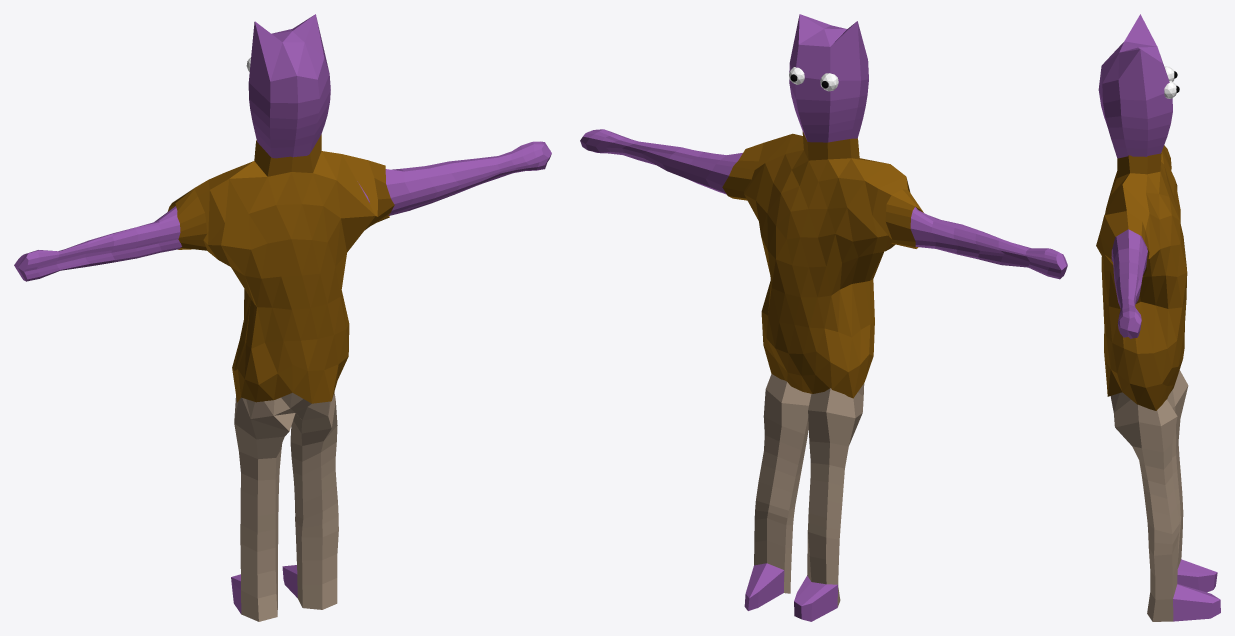
File: goblin3000.fbx
3 renders of one model, left to right at view 1: azimuth 30°, elevation 25°; view 2: azimuth 150°, elevation 25°; view 3: azimuth 270°, elevation 25°, orthographic. The views are drawn at different scales.
Visible parts, largest first — view 1: Icosphere.005, Icosphere, Icosphere.006; view 2: Icosphere.005, Icosphere, Icosphere.006; view 3: Icosphere.005, Icosphere, Icosphere.006.
Boxes of the visible parts, x1=… form: Icosphere.005: x1=167, y1=134, x2=394, y2=403; Icosphere: x1=14, y1=14, x2=551, y2=613; Icosphere.006: x1=234, y1=392, x2=338, y2=621; Icosphere.005: x1=722, y1=131, x2=923, y2=398; Icosphere: x1=580, y1=14, x2=1067, y2=621; Icosphere.006: x1=754, y1=374, x2=864, y2=606; Icosphere.005: x1=1096, y1=145, x2=1187, y2=410; Icosphere: x1=1098, y1=14, x2=1220, y2=621; Icosphere.006: x1=1110, y1=370, x2=1188, y2=621.
Bounding box in the file's own units: 675 × 755 × 150.
